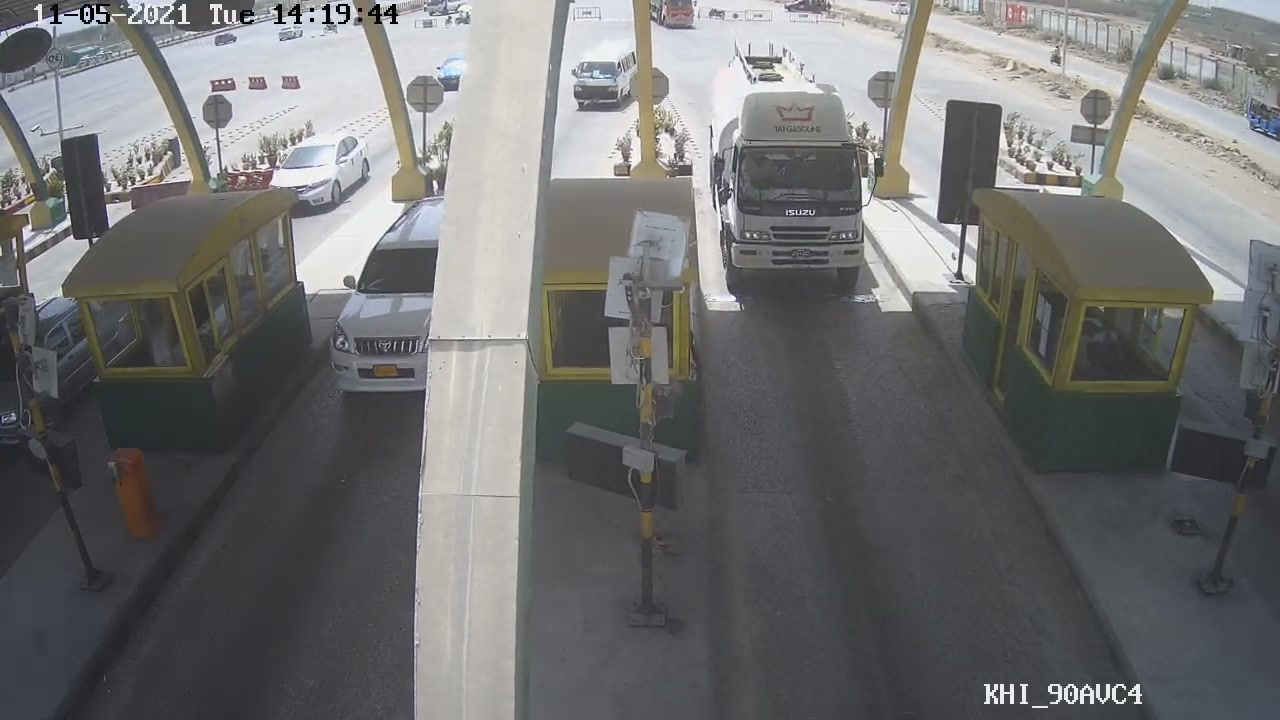F6: (707, 49, 871, 326)
